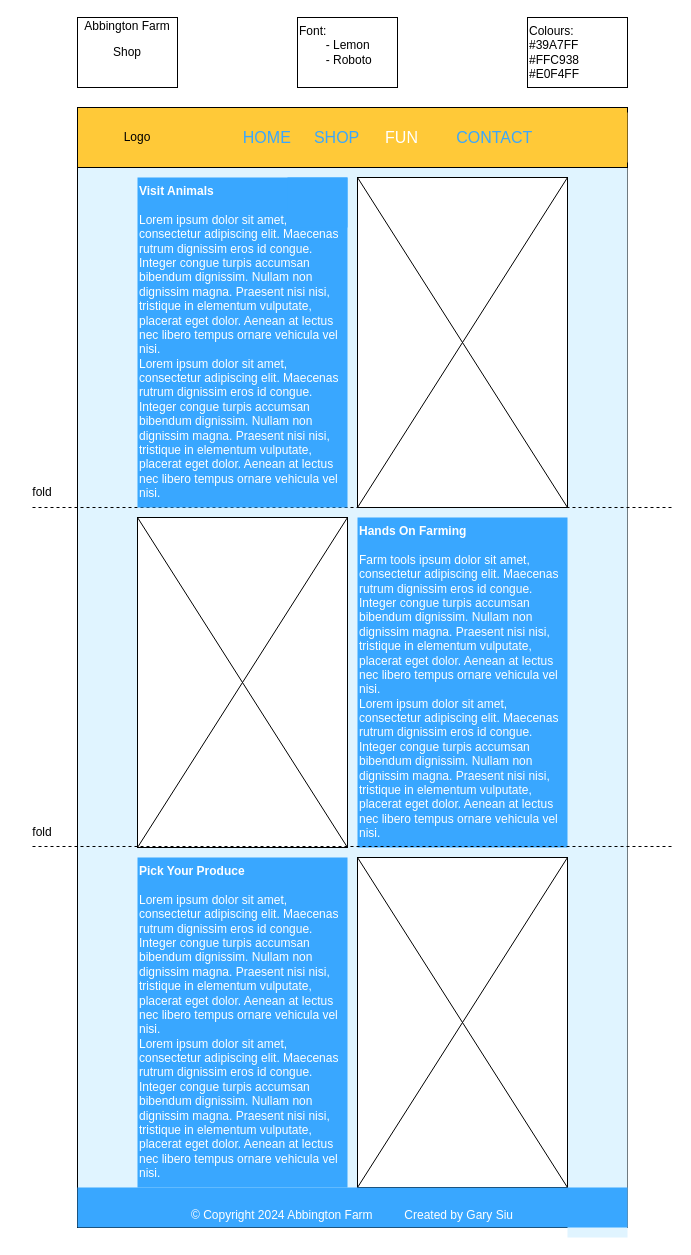
Image size: 691x1255. Some labels were removed from this diagram. Each missing label, with the centre of its shape:
#39A7FF: (317,202)
#E0F4FF: (597,702)
#FFC938: (597,137)
